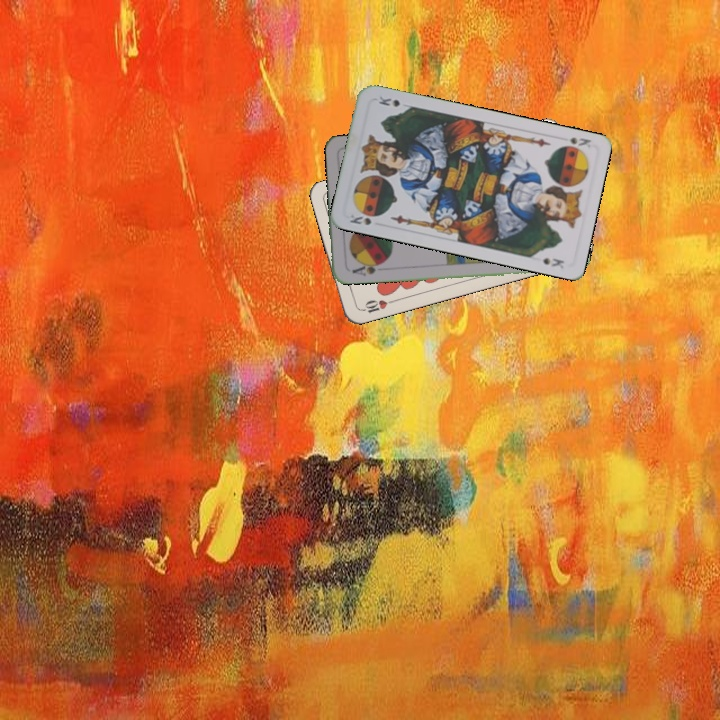H10: (356, 296, 396, 316)
SA: (348, 258, 385, 279)
SK: (556, 133, 594, 154), (346, 210, 374, 228)
